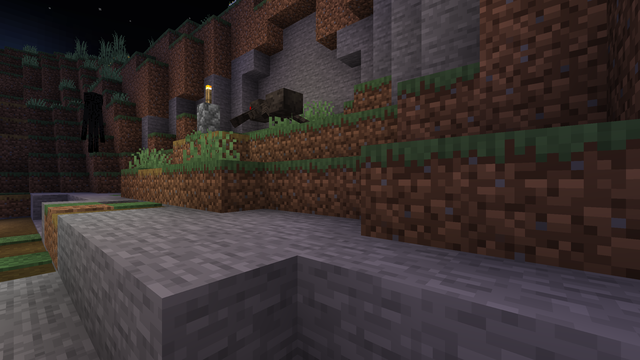araignees: (234, 82, 307, 132)
endermens: (84, 89, 102, 152)
